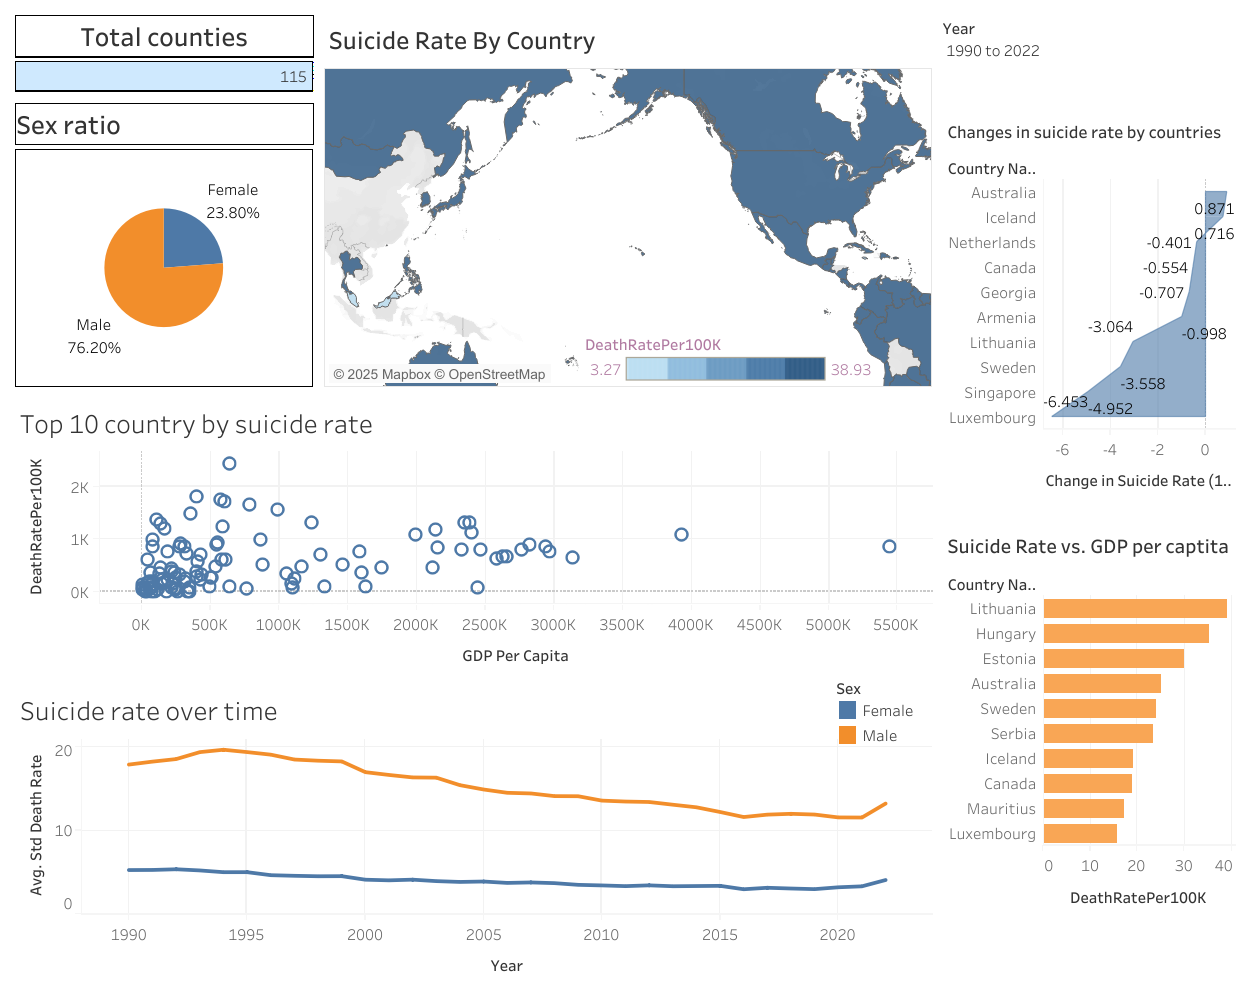

This screenshot's page, from the dashboard's own definition file:
{"tool":"tableau","page":{"name":"Dashboard 1","canvas":[1000,800],"ordinal":0},"visuals":[{"type":"worksheet","title":"total countries","mark":"Automatic","box":[8,8,247.3,70]},{"type":"worksheet","title":"Sheet 2","mark":"Automatic","box":[255.3,8,494.7,306]},{"type":"filter","title":"Sheet 2","param":"[federated.0xdp6az0ysi2l310pda3q0q26mkl].[none:Year:qk]","box":[750,8,242,77]},{"type":"worksheet","title":"Sheet 3","mark":"Pie","box":[8,78,247.3,236]},{"type":"worksheet","title":"Sheet 8","mark":"Area","rows":["CountryName"],"cols":["Calculation_1055540276396131"],"box":[750,85,242,330]},{"type":"legend","title":"Sheet 2","param":"[federated.0xdp6az0ysi2l310pda3q0q26mkl].[sum:DeathRatePer100K:qk]","box":[468,262,234,71]},{"type":"worksheet","title":"Sheet 5","mark":"Shape","rows":["DeathRatePer100K"],"cols":["GDPPerCapita"],"box":[8,314,742,230]},{"type":"worksheet","title":"Sheet 4","mark":"Automatic","rows":["CountryName"],"cols":["DeathRatePer100K"],"box":[750,415,242,377]},{"type":"legend","title":"Sheet 1","param":"[federated.0xdp6az0ysi2l310pda3q0q26mkl].[none:Sex:nk]","box":[668,539,95,59]},{"type":"worksheet","title":"Sheet 1","mark":"Line","rows":["StdDeathRate"],"cols":["Year"],"box":[8,544,742,248]}]}

Visuals, with their boxes in screenshot pixels (x1, y1, x2, y2), scaled from the page's 1000x800 canvas onto the 1249x999 screenshot:
"total countries" worksheet: [10, 10, 319, 97]
"Sheet 2" worksheet: [319, 10, 937, 392]
"Sheet 2" filter: [937, 10, 1239, 106]
"Sheet 3" worksheet (Pie marks): [10, 97, 319, 392]
"Sheet 8" worksheet (Area marks): [937, 106, 1239, 518]
"Sheet 2" legend: [585, 327, 877, 416]
"Sheet 5" worksheet (Shape marks): [10, 392, 937, 679]
"Sheet 4" worksheet: [937, 518, 1239, 989]
"Sheet 1" legend: [834, 673, 953, 747]
"Sheet 1" worksheet (Line marks): [10, 679, 937, 989]
